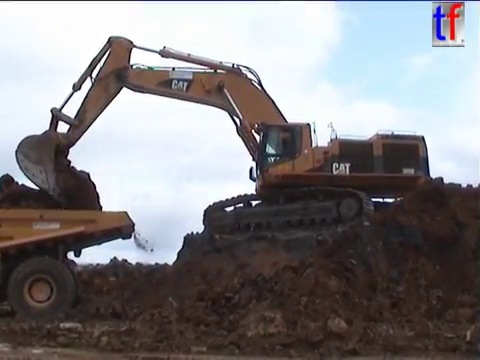excavator: (13, 33, 436, 242)
truck: (1, 203, 139, 327)
